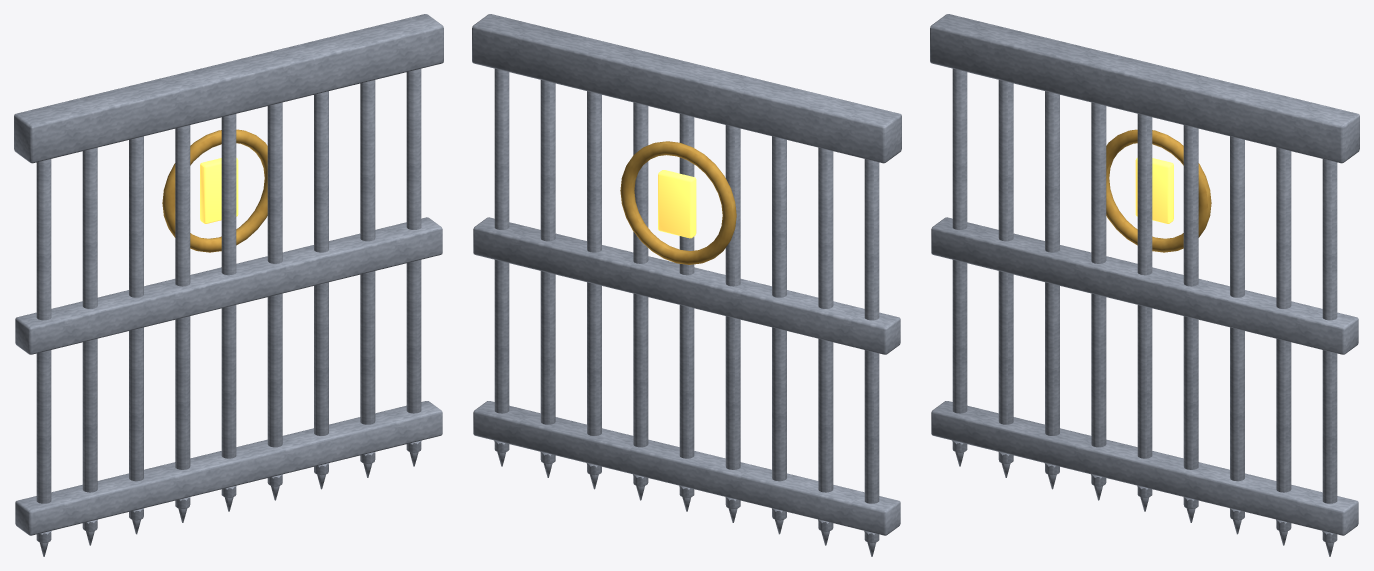
File: boss_gate.glb
The picture shows the model from 3 angles, left to right: view 1: azimuth 30°, elevation 25°; view 2: azimuth 150°, elevation 25°; view 3: azimuth 330°, elevation 25°; orthographic projection.
Parts seen in each view (by area): view 1: TopBeam, MidBeam, BotBeam, GateBar, GateBar.007, GateBar.003, GateBar.004, GateBar.008, GateBar.001, GateBar.005, GateBar.002, GateBar.006 (+2 smaller); view 2: TopBeam, MidBeam, BotBeam, GateBar, GateBar.007, GateBar.008, GateBar.001, GateBar.002, GateBar.006, BossCrestRing, GateBar.003, GateBar.005 (+2 smaller); view 3: TopBeam, MidBeam, BotBeam, GateBar.008, GateBar.001, GateBar.005, GateBar, GateBar.004, GateBar.003, GateBar.007, GateBar.002, GateBar.006 (+2 smaller).
Part boxes in pixels (box(x1,y1,x2,y2)): TopBeam: box(14, 14, 443, 163); MidBeam: box(15, 217, 442, 354); BotBeam: box(15, 401, 442, 535); GateBar: box(36, 159, 51, 542); GateBar.007: box(360, 80, 375, 463); GateBar.003: box(175, 125, 190, 508); GateBar.004: box(221, 114, 236, 497); GateBar.008: box(406, 68, 421, 452); GateBar.001: box(82, 147, 97, 531); GateBar.005: box(267, 102, 282, 486); GateBar.002: box(129, 136, 143, 520); GateBar.006: box(314, 91, 328, 475); TopBeam: box(472, 14, 901, 163); MidBeam: box(473, 217, 900, 354); BotBeam: box(473, 401, 900, 535); GateBar: box(864, 159, 879, 542); GateBar.007: box(540, 80, 555, 463); GateBar.008: box(494, 68, 509, 452); GateBar.001: box(818, 147, 833, 531); GateBar.002: box(772, 136, 786, 520); GateBar.006: box(587, 91, 601, 475); BossCrestRing: box(620, 141, 736, 264); GateBar.003: box(725, 125, 740, 508); GateBar.005: box(633, 102, 648, 486); TopBeam: box(930, 14, 1359, 163); MidBeam: box(931, 217, 1358, 354); BotBeam: box(931, 401, 1358, 535); GateBar.008: box(1322, 159, 1337, 542); GateBar.001: box(998, 80, 1013, 463); GateBar.005: box(1183, 125, 1198, 508); GateBar: box(952, 68, 967, 452); GateBar.004: box(1137, 114, 1152, 497); GateBar.003: box(1091, 102, 1106, 486); GateBar.007: box(1276, 147, 1291, 531); GateBar.002: box(1045, 91, 1059, 475); GateBar.006: box(1230, 136, 1244, 520).
Bounding box in the file's own units: 3.4 × 3.47 × 0.31.
Materials: 4 (3 with a texture image).
